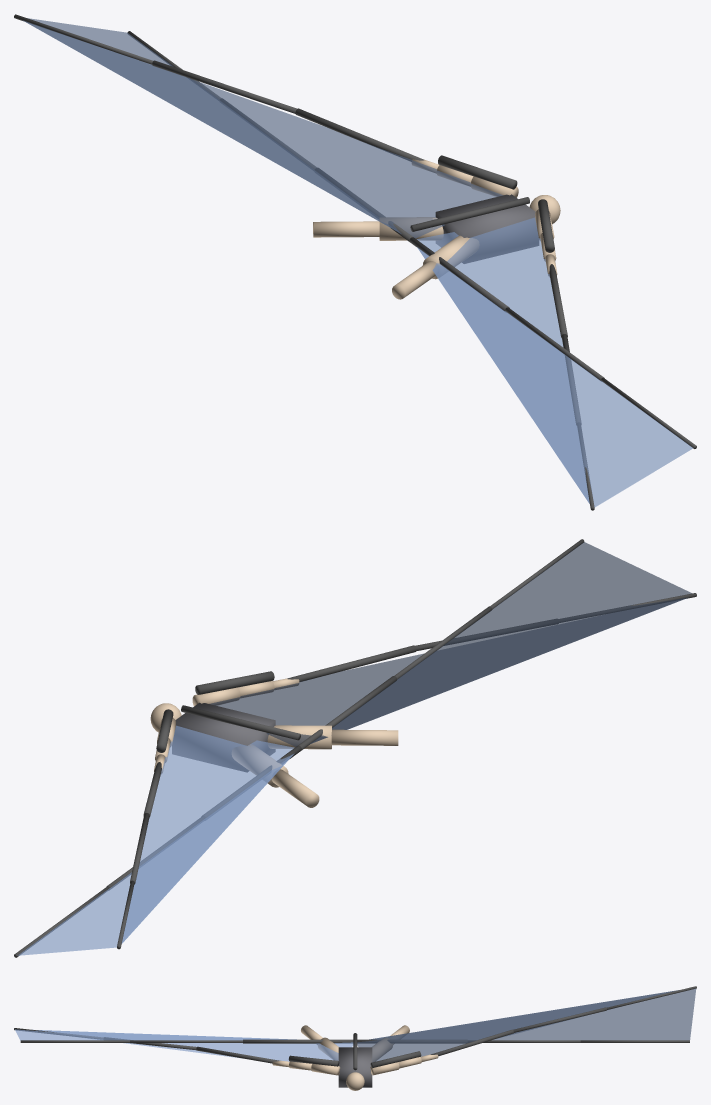
Rendered from deployed.glb.
3 renders of one model, top to bottom at view 1: azimuth 30°, elevation 25°; view 2: azimuth 150°, elevation 25°; view 3: azimuth 270°, elevation 25°, orthographic. The views are drawn at different scales.
Parts seen in each view (by area): view 1: skin_dyn_L, skin_dyn_R, torso_g, ul_R, ll_R, tip_dyn_tip1_R_g, tip_dyn_tip2_R_g, ul_L, spine_yoke, le_spar_R, ll_L; view 2: skin_dyn_L, skin_dyn_R, torso_g, ul_L, ll_L, tip_dyn_tip1_L_g, ul_R, spine_yoke, le_spar_L, ll_R, tip_dyn_tip2_L_g, tip_dyn_te1_L_g (+1 smaller); view 3: skin_dyn_R, skin_dyn_L, torso_g, tip_dyn_te1_L_g, tip_dyn_te1_R_g, tip_dyn_tip1_R_g, tip_dyn_tip2_R_g, tip_dyn_tip1_L_g, tip_dyn_te2_L_g, tip_dyn_te3_R_g, tip_dyn_te3_L_g, le_spar_R (+11 smaller).
Boxes of the visible parts, box(x1,y1,x2,y2) form: skin_dyn_L: box(417, 217, 692, 506); skin_dyn_R: box(22, 18, 502, 238); torso_g: box(435, 194, 538, 263); ul_R: box(379, 217, 443, 240); ll_R: box(313, 221, 379, 237); tip_dyn_tip1_R_g: box(295, 108, 424, 161); tip_dyn_tip2_R_g: box(152, 60, 296, 113); ul_L: box(422, 235, 479, 279); spine_yoke: box(410, 197, 529, 231); le_spar_R: box(438, 155, 517, 189); ll_L: box(392, 261, 437, 299); skin_dyn_L: box(210, 542, 691, 746); skin_dyn_R: box(18, 725, 294, 955); torso_g: box(172, 702, 275, 772); ul_L: box(267, 725, 331, 749); ll_L: box(331, 729, 398, 745); tip_dyn_tip1_L_g: box(287, 645, 416, 681); ul_R: box(232, 744, 288, 787); spine_yoke: box(181, 705, 300, 740); le_spar_L: box(195, 671, 274, 694); ll_R: box(272, 769, 319, 807); tip_dyn_tip2_L_g: box(415, 619, 558, 651); tip_dyn_te1_L_g: box(298, 676, 396, 749); skin_dyn_R: box(357, 988, 696, 1061); skin_dyn_L: box(15, 1029, 353, 1061); torso_g: box(338, 1047, 372, 1087); tip_dyn_te1_L_g: box(243, 1039, 353, 1043); tip_dyn_te1_R_g: box(357, 1039, 467, 1043); tip_dyn_tip1_R_g: box(430, 1029, 513, 1056); tip_dyn_tip2_R_g: box(513, 1007, 606, 1032); tip_dyn_tip1_L_g: box(196, 1046, 279, 1063); tip_dyn_te2_L_g: box(130, 1040, 242, 1042); tip_dyn_te3_R_g: box(580, 1040, 689, 1042); tip_dyn_te3_L_g: box(20, 1040, 129, 1042); le_spar_R: box(370, 1051, 421, 1068).
Size of the model in its own units: 1.88 by 0.5179 by 7.32.
